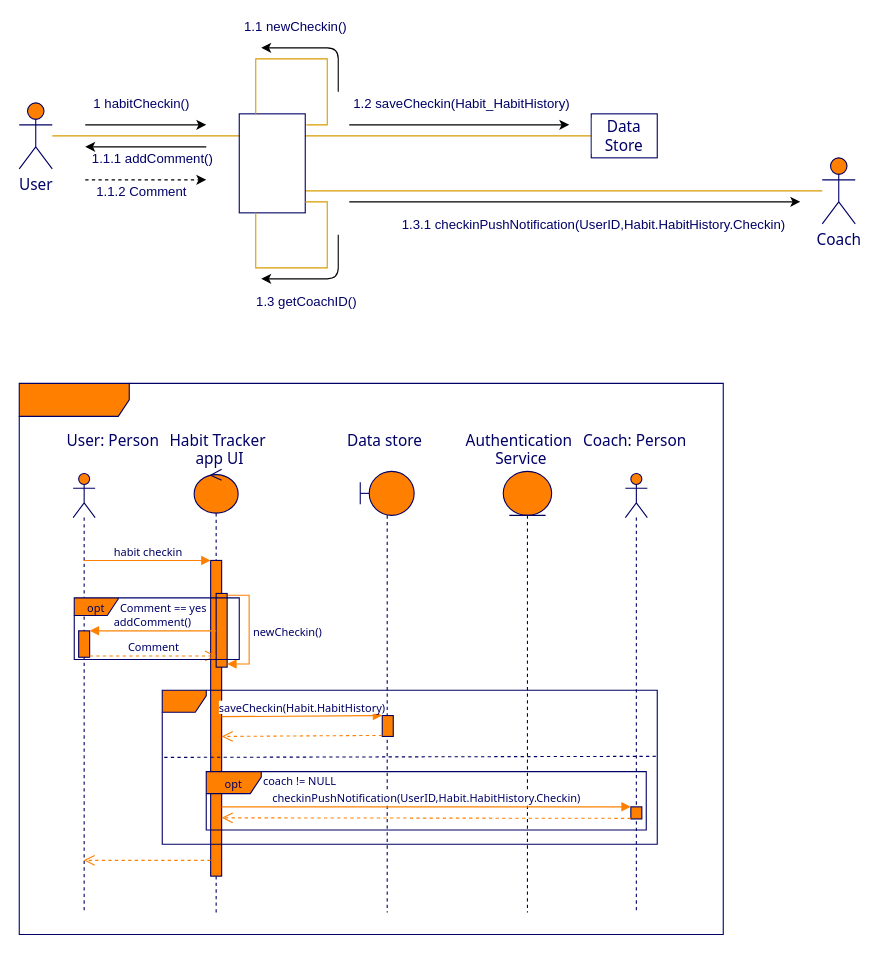
The diagram is 880 pixels wide and 954 high, and some of its shapes have lost their labels. Each missing label, with the box of its shape:
par: (161, 689, 657, 844)
SD checkin: (18, 382, 723, 934)
UI: (238, 113, 305, 213)
